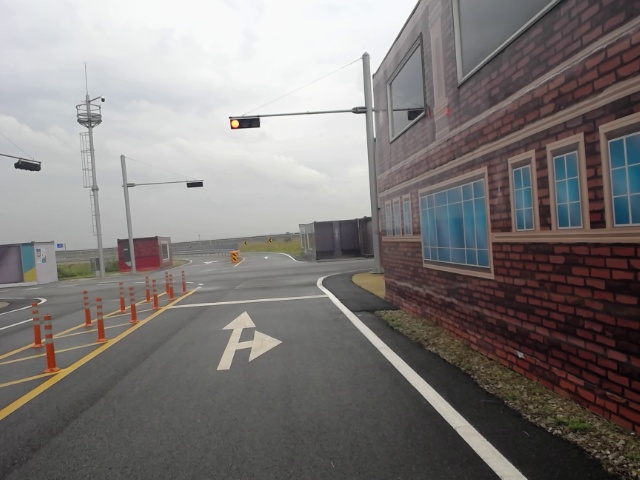red_3: (231, 117, 261, 129)
